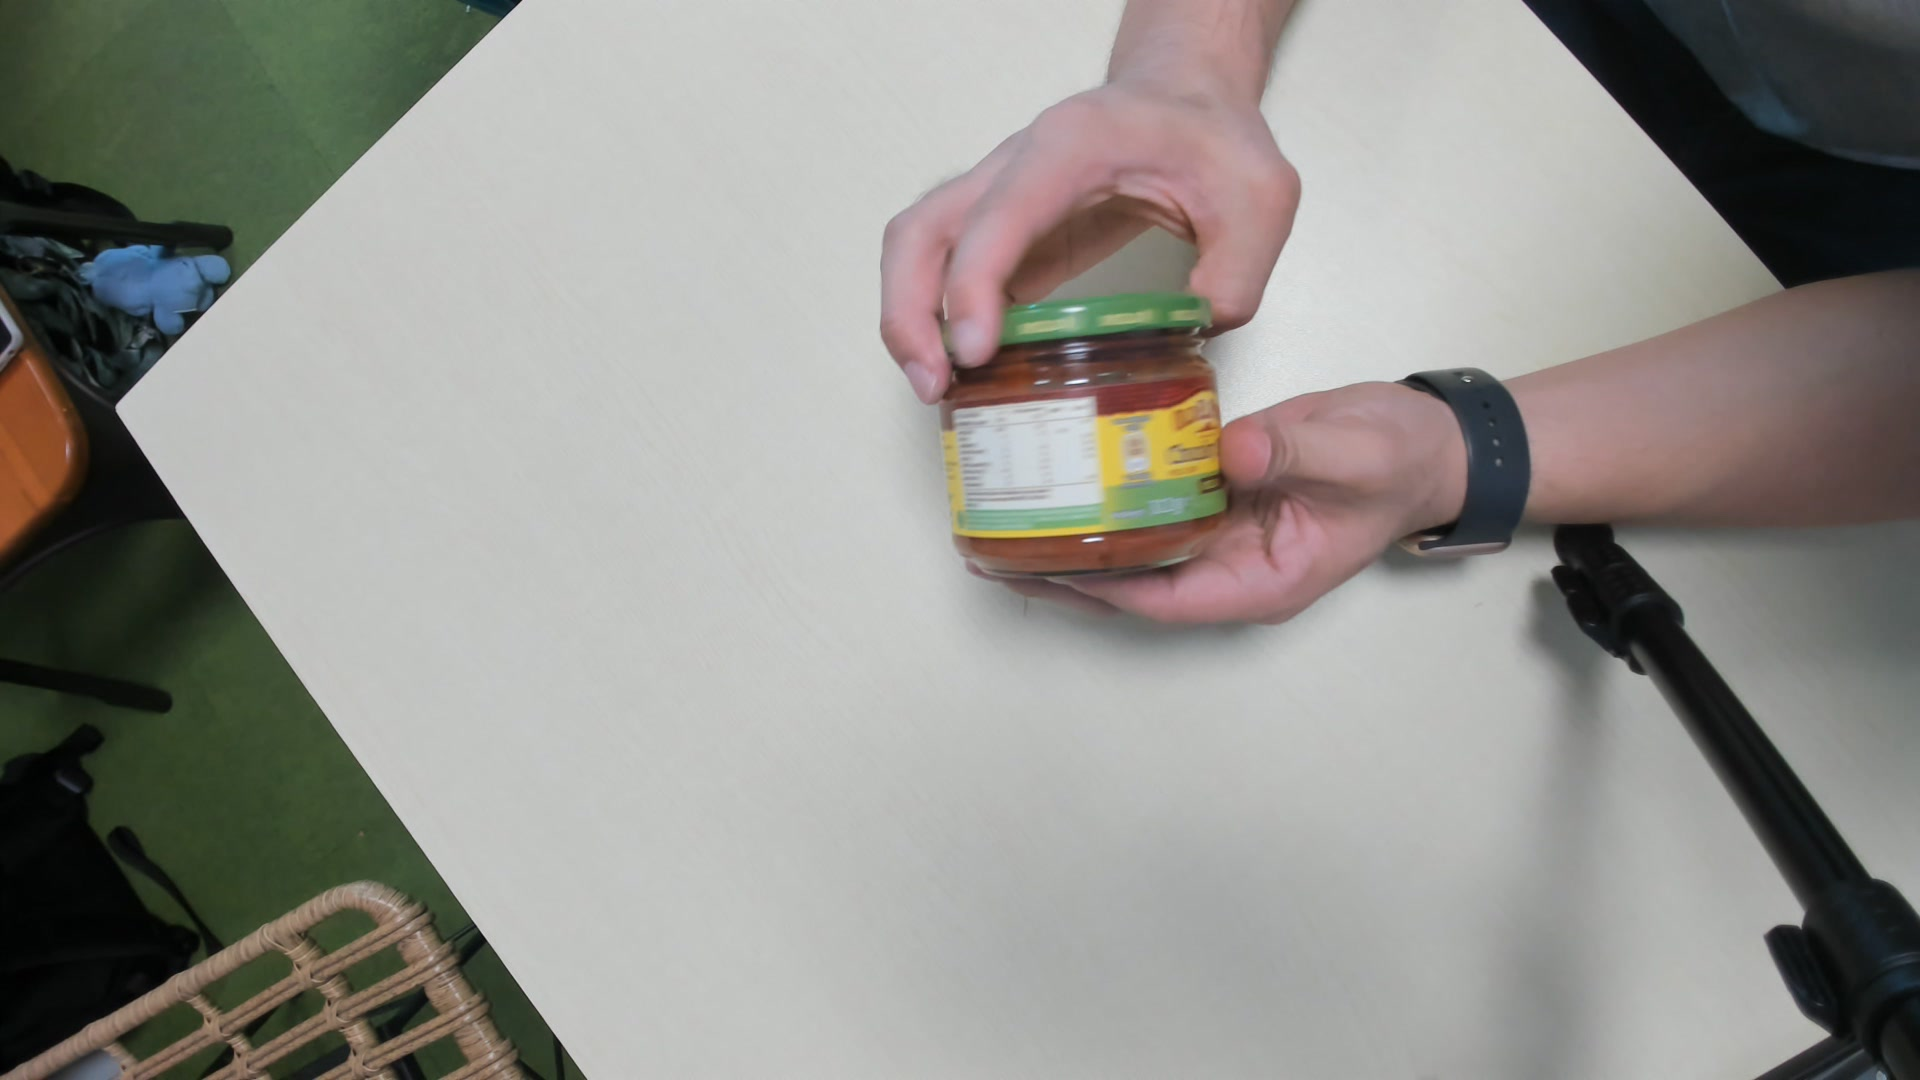OtherSauceDressing_300-399g_NonHalal_NonHealthy: (931, 291, 1232, 580)
